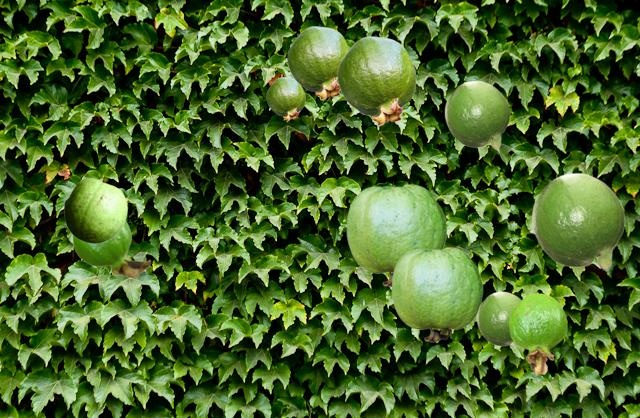guava: (346, 184, 446, 286), (531, 172, 624, 270), (391, 247, 482, 341), (337, 36, 415, 125), (509, 293, 566, 374), (287, 26, 349, 99), (444, 80, 509, 149), (72, 220, 150, 277), (64, 178, 126, 242), (476, 291, 520, 347), (266, 77, 304, 120)
